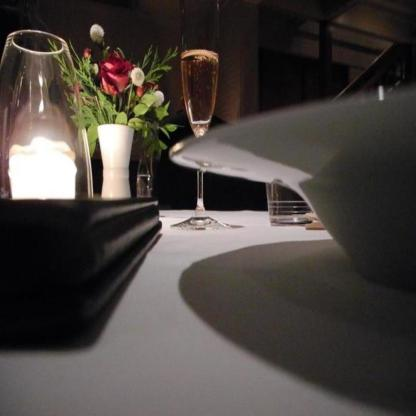vase: (98, 120, 134, 204)
